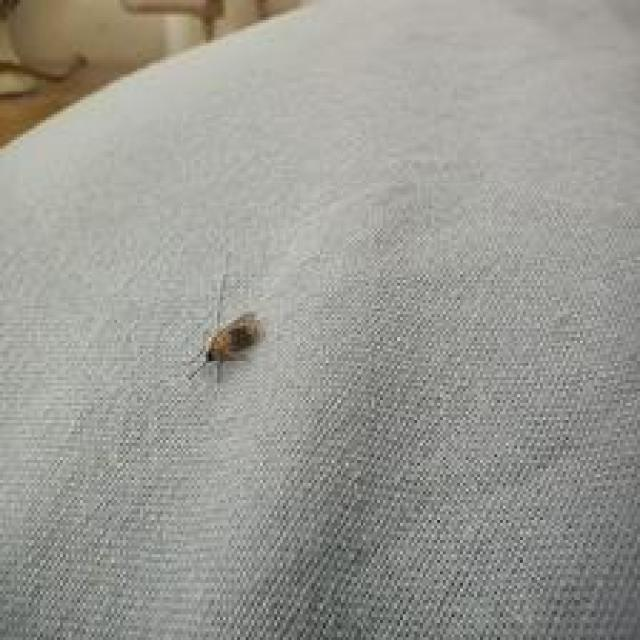Culex: (186, 308, 260, 383)
